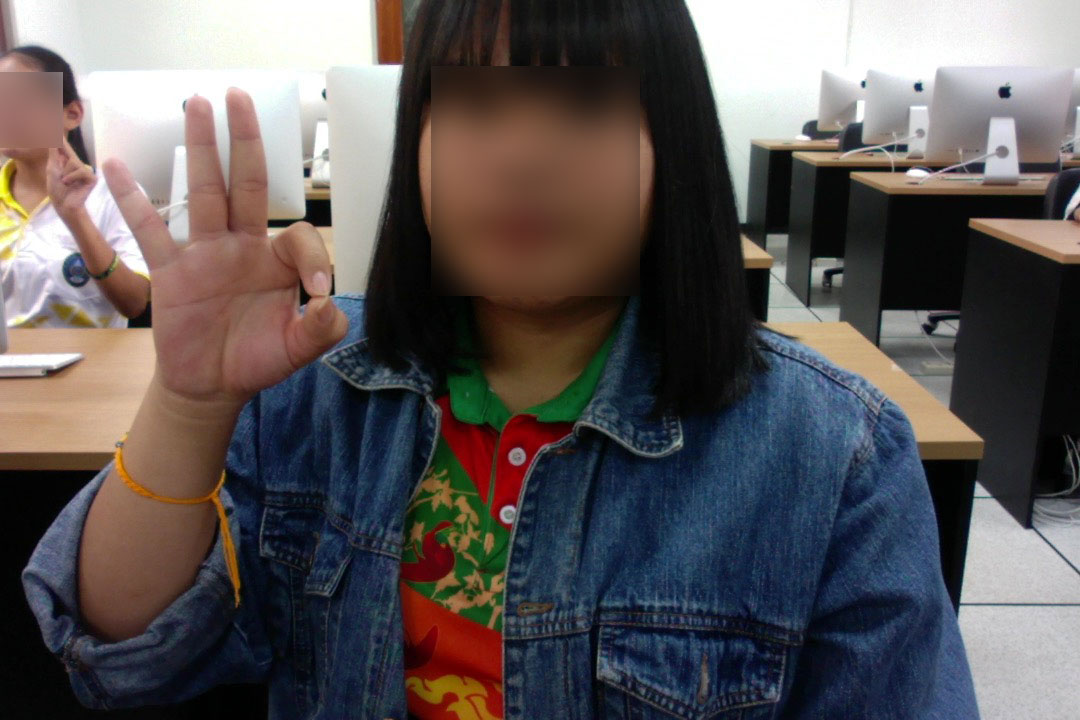for: (97, 78, 358, 417)
